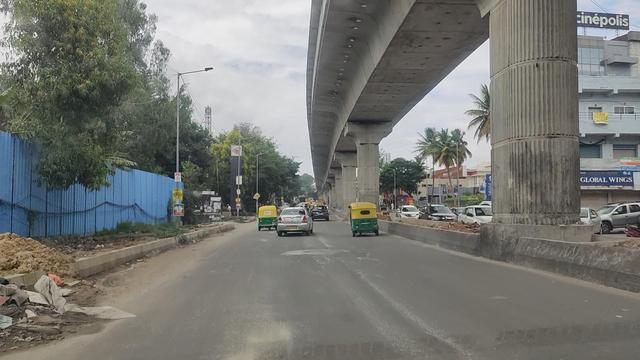LMV: (276, 206, 314, 239), (351, 201, 379, 237)
RoadDamages: (280, 246, 351, 257), (356, 249, 379, 266), (317, 259, 331, 273)
